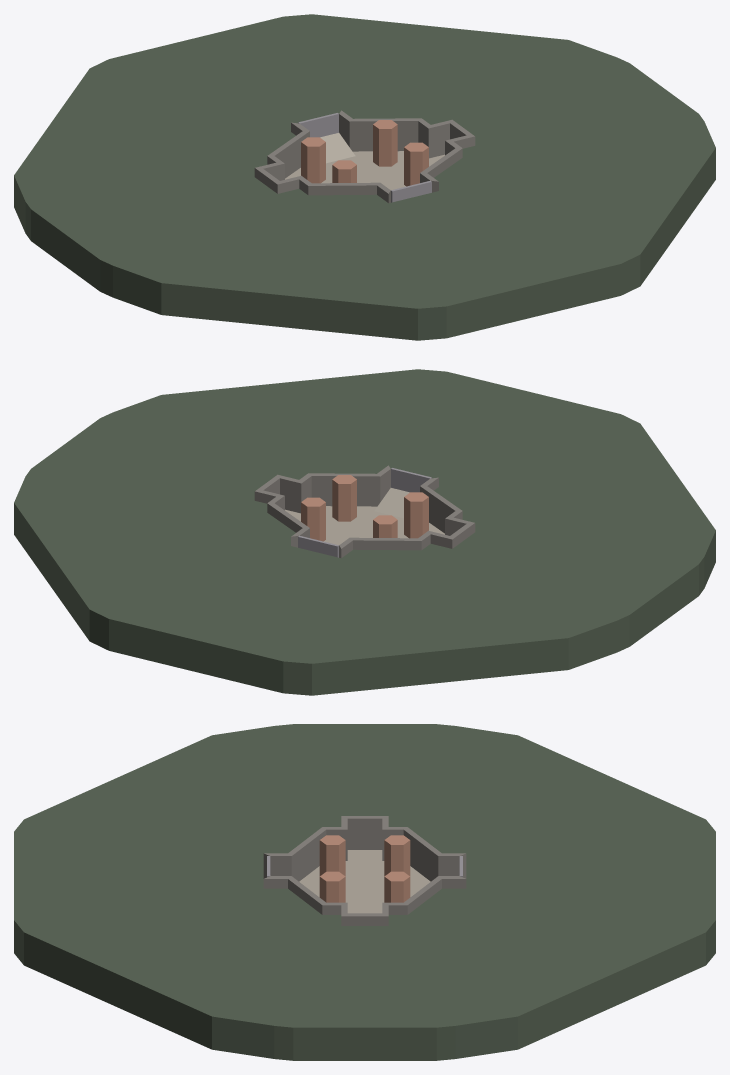
Rendered from arena_ring_of_trials.glb.
The picture shows the model from 3 angles, top to bottom: view 1: azimuth 30°, elevation 25°; view 2: azimuth 150°, elevation 25°; view 3: azimuth 270°, elevation 25°; orthographic projection. The views are drawn at different scales.
Parts seen in each view (by area): view 1: Arena_Ground, Arena_Walls, Arena_Pillars, Arena_Floor, Arena_Gates, Arena_Ramps; view 2: Arena_Ground, Arena_Walls, Arena_Pillars, Arena_Floor, Arena_Gates, Arena_Ramps; view 3: Arena_Ground, Arena_Walls, Arena_Pillars, Arena_Floor.
Part boxes in pixels (bbox=[...]): Arena_Ground: bbox=[14, 14, 715, 340]; Arena_Walls: bbox=[254, 110, 475, 203]; Arena_Pillars: bbox=[301, 120, 428, 186]; Arena_Floor: bbox=[285, 151, 444, 190]; Arena_Gates: bbox=[298, 113, 431, 202]; Arena_Ramps: bbox=[320, 133, 355, 163]; Arena_Ground: bbox=[14, 369, 715, 695]; Arena_Walls: bbox=[254, 465, 475, 558]; Arena_Pillars: bbox=[301, 475, 428, 541]; Arena_Floor: bbox=[285, 506, 444, 545]; Arena_Gates: bbox=[298, 468, 431, 557]; Arena_Ramps: bbox=[374, 488, 409, 518]; Arena_Ground: bbox=[14, 724, 715, 1060]; Arena_Walls: bbox=[263, 816, 466, 925]; Arena_Pillars: bbox=[319, 835, 410, 902]; Arena_Floor: bbox=[299, 850, 430, 913].
Bounding box in the file's own units: 167 × 13 × 163.
